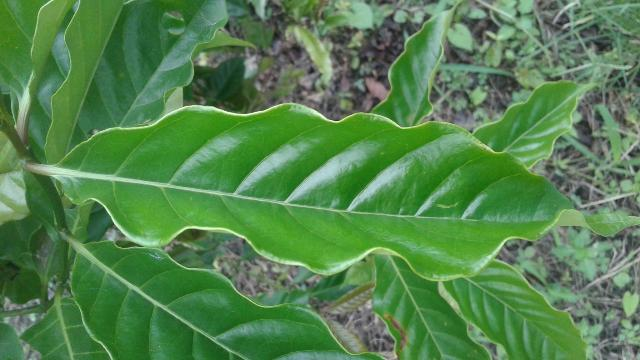healthy: (54, 103, 638, 282)
